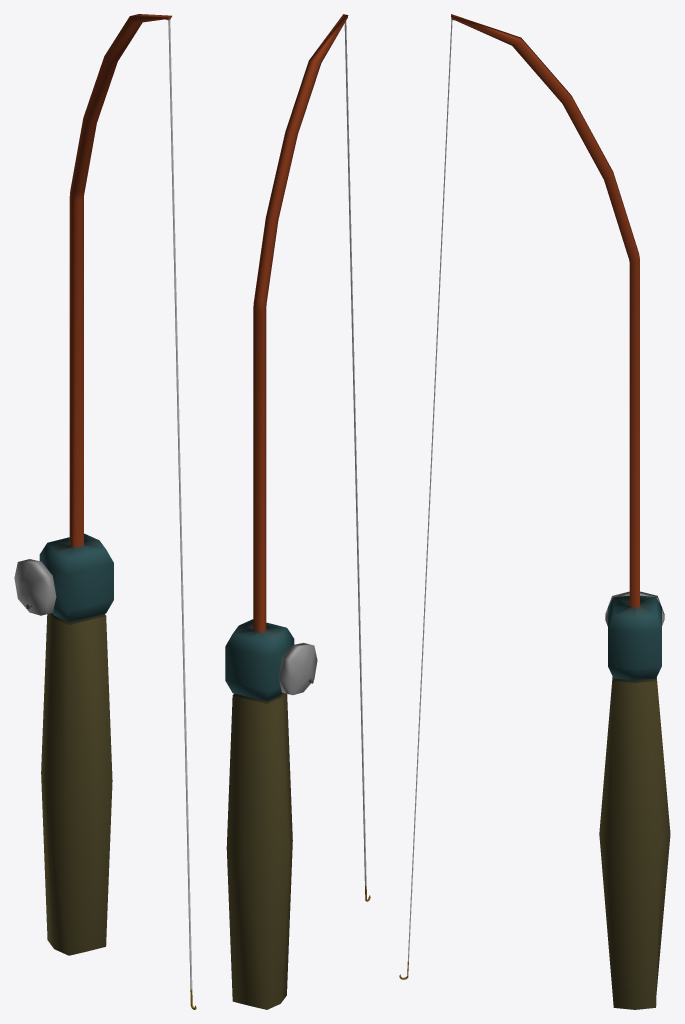
File: Fishingrod.fbx
3 views of the same model, side by side, from view 1: azimuth 30°, elevation 25°; view 2: azimuth 150°, elevation 25°; view 3: azimuth 270°, elevation 25° (orthographic). The views are drawn at different scales.
Visible parts, largest first — view 1: Cube; view 2: Cube; view 3: Cube.
Part boxes in pixels (left/top/right/bottom): Cube: left=14, top=14, right=196, bottom=1009; Cube: left=225, top=14, right=370, bottom=1009; Cube: left=399, top=14, right=670, bottom=1009.
Size of the model in its own units: 42.67 by 484 by 120.
1 material, 1 textured.
